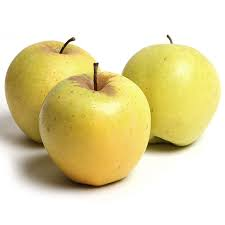apple: (40, 75, 152, 186), (126, 45, 223, 154), (8, 42, 101, 145)
